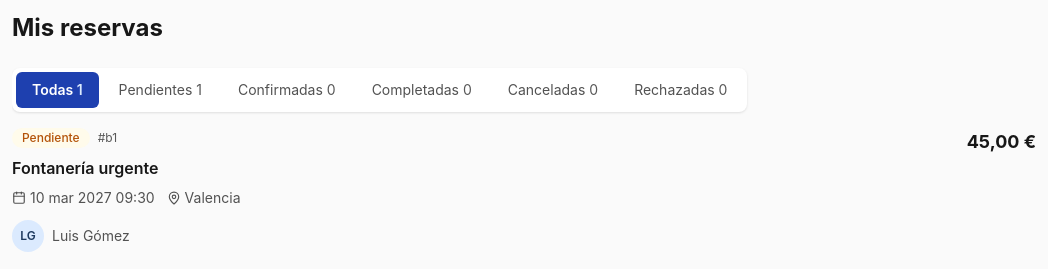
Test case: Mis reservas › una pestaña vacía lo dice, en lugar de quedarse en blanco
Expected: the heading "Fontanería urgente" is shown, left=12, top=158, right=158, bottom=178
Click the button "Confirmadas 0" at (287, 90), box left=222, top=72, right=352, bottom=108
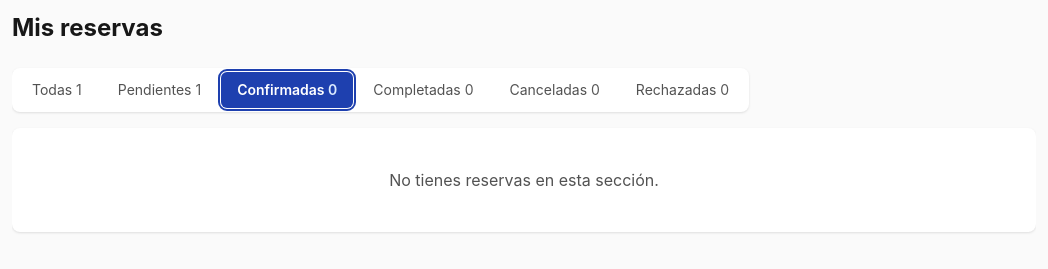
Expected: the text "No tienes reservas en esta sección." is shown, left=12, top=128, right=1036, bottom=232
Expected: the link "Fontanería urgente" is gone
